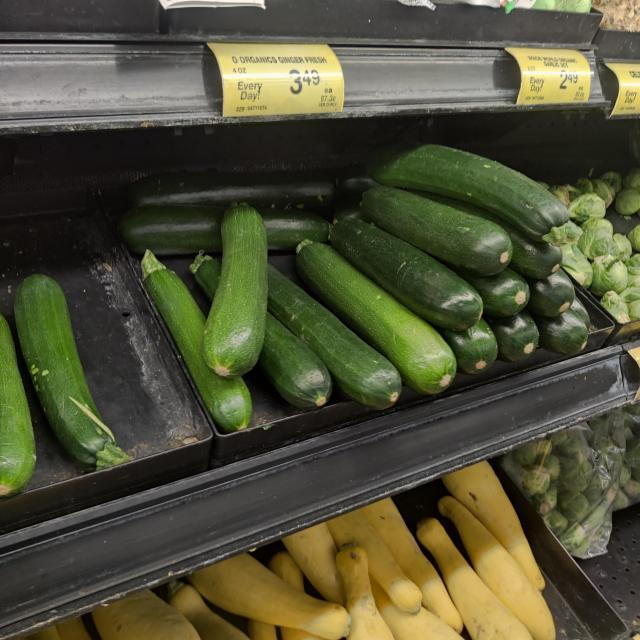Zucchini: (298, 237, 462, 393), (249, 247, 392, 409), (383, 139, 576, 255), (24, 269, 128, 479), (140, 250, 255, 433), (366, 186, 510, 292), (208, 194, 265, 369)
